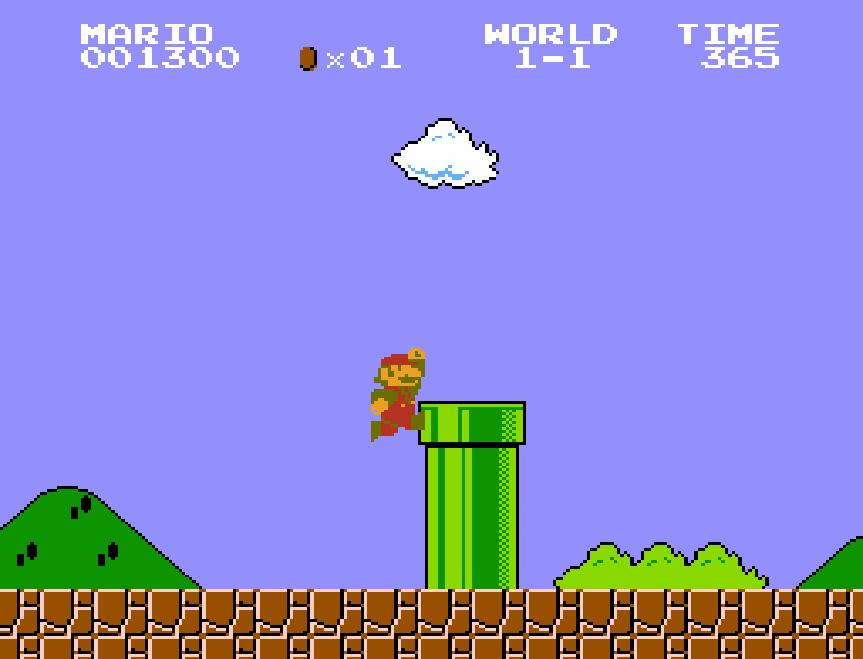big_mario: (368, 346, 426, 444)
